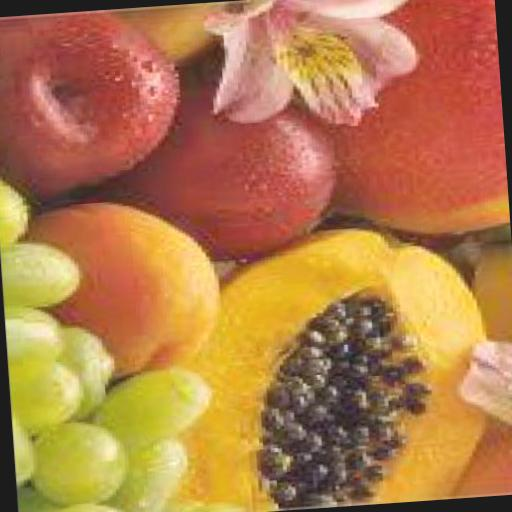biodegradable: (149, 215, 507, 512), (304, 0, 510, 241), (117, 81, 340, 268), (28, 192, 228, 384), (0, 5, 188, 200), (201, 0, 418, 126), (437, 233, 512, 498), (110, 0, 242, 74), (32, 414, 134, 506), (96, 368, 210, 446), (463, 335, 512, 482), (2, 238, 88, 312), (60, 322, 120, 424), (116, 440, 197, 512), (10, 356, 88, 427), (7, 306, 63, 372), (0, 172, 35, 243), (15, 425, 41, 483), (46, 498, 131, 512)
